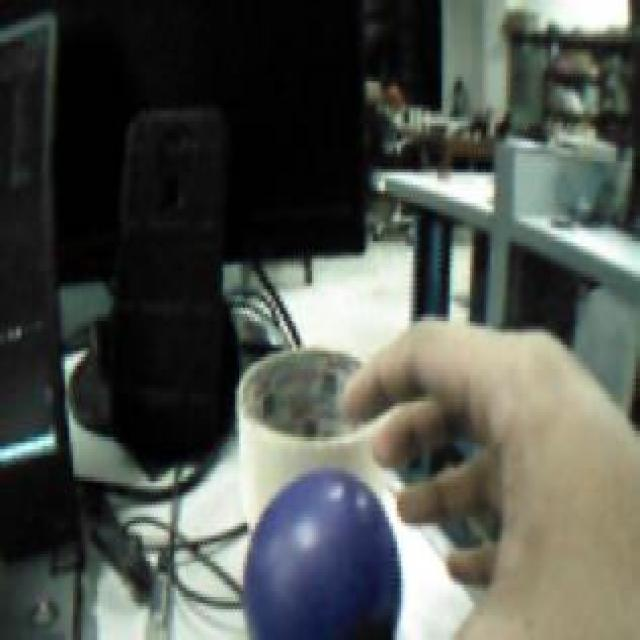BallPurple: (243, 467, 401, 640)
